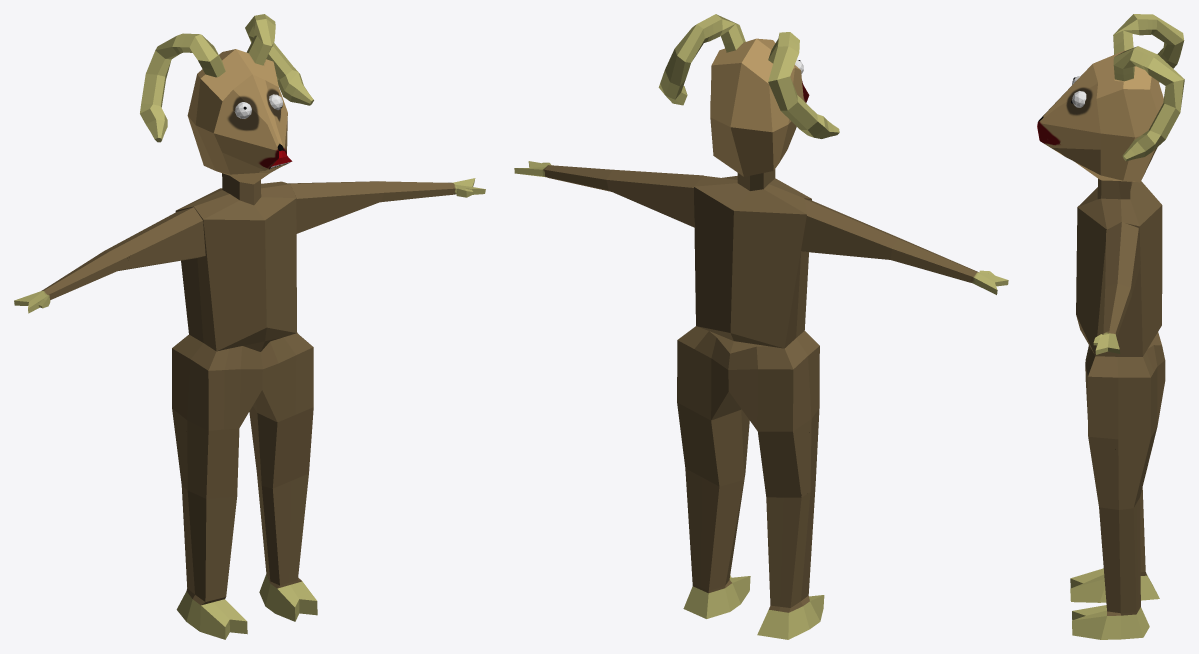
Rendered from carnero Pint materials3.fbx.
3 views of the same model, side by side, from view 1: azimuth 30°, elevation 25°; view 2: azimuth 150°, elevation 25°; view 3: azimuth 270°, elevation 25° (orthographic). The views are drawn at different scales.
Parts seen in each view (by area): view 1: Personaje; view 2: Personaje; view 3: Personaje.
Boxes of the visible parts, <box> form: Personaje: <box>14,14,485,639</box>; Personaje: <box>514,14,1008,639</box>; Personaje: <box>1037,14,1184,639</box>.
Bounding box in the file's own units: 1027 × 1228 × 284.
3 materials, 1 textured.
